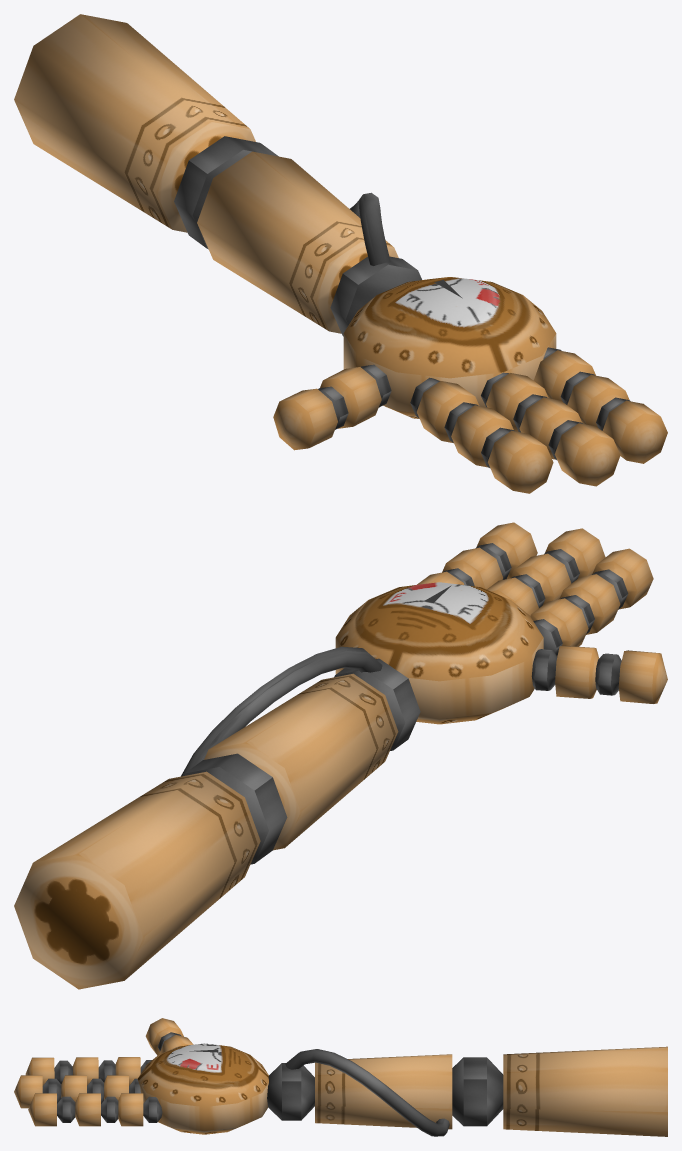
Rendered from player-arm-left.fbx.
3 views of the same model, one above another, from view 1: azimuth 30°, elevation 25°; view 2: azimuth 150°, elevation 25°; view 3: azimuth 270°, elevation 25° (orthographic). The views are drawn at different scales.
Parts seen in each view (by area): view 1: bicep-mesh, forearm-mesh, hand-mesh, thumb-2-mesh, index-3-mesh, middle-3-mesh, ring-3-mesh, thumb-1-mesh, index-2-mesh, index-1-mesh, ring-2-mesh, middle-2-mesh (+3 smaller); view 2: bicep-mesh, hand-mesh, forearm-mesh, cable-mesh, thumb-2-mesh, thumb-1-mesh, index-3-mesh, index-1-mesh, index-2-mesh, ring-3-mesh, middle-3-mesh, middle-2-mesh (+2 smaller); view 3: bicep-mesh, forearm-mesh, hand-mesh, cable-mesh, ring-3-mesh, ring-1-mesh, ring-2-mesh, middle-3-mesh, index-3-mesh, index-2-mesh, middle-2-mesh, thumb-2-mesh (+3 smaller).
Boxes of the visible parts, x1,y1,x2,y2 form: bicep-mesh: [14, 14, 278, 249]; forearm-mesh: [197, 151, 421, 336]; hand-mesh: [343, 277, 556, 418]; thumb-2-mesh: [273, 386, 348, 450]; index-3-mesh: [481, 427, 553, 493]; middle-3-mesh: [548, 420, 620, 486]; ring-3-mesh: [596, 397, 667, 463]; thumb-1-mesh: [320, 364, 391, 428]; index-2-mesh: [444, 402, 513, 467]; index-1-mesh: [410, 377, 479, 443]; ring-2-mesh: [560, 371, 629, 427]; middle-2-mesh: [513, 394, 582, 459]; bicep-mesh: [14, 753, 287, 989]; hand-mesh: [335, 582, 543, 724]; forearm-mesh: [204, 658, 420, 850]; cable-mesh: [181, 646, 382, 776]; thumb-2-mesh: [595, 650, 667, 703]; thumb-1-mesh: [531, 645, 599, 698]; index-3-mesh: [592, 548, 653, 609]; index-1-mesh: [530, 598, 588, 656]; index-2-mesh: [559, 574, 620, 634]; ring-3-mesh: [476, 522, 537, 579]; middle-3-mesh: [544, 528, 605, 583]; middle-2-mesh: [510, 553, 571, 607]; bicep-mesh: [452, 1046, 667, 1136]; forearm-mesh: [267, 1054, 452, 1129]; hand-mesh: [137, 1043, 268, 1134]; cable-mesh: [285, 1049, 449, 1136]; ring-3-mesh: [28, 1093, 75, 1126]; ring-1-mesh: [118, 1093, 162, 1126]; ring-2-mesh: [75, 1093, 118, 1126]; middle-3-mesh: [14, 1075, 61, 1108]; index-3-mesh: [25, 1057, 72, 1085]; index-2-mesh: [72, 1057, 115, 1085]; middle-2-mesh: [61, 1075, 103, 1103]; thumb-2-mesh: [145, 1018, 183, 1055].
Bounding box in the file's own units: 0.3018 × 0.1409 × 0.9378.
Materials: 1 (1 with a texture image).
